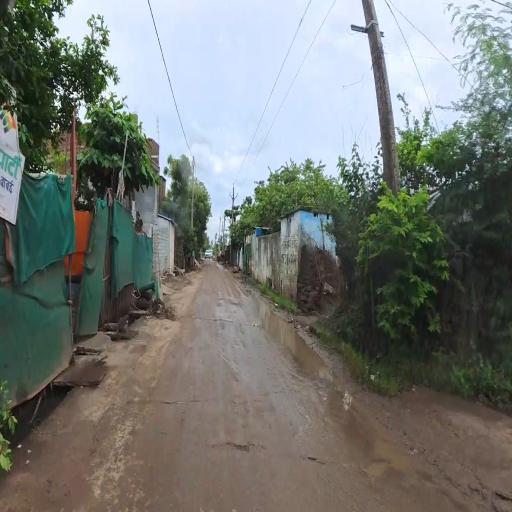longitudinal_crack: (130, 382, 333, 478)
